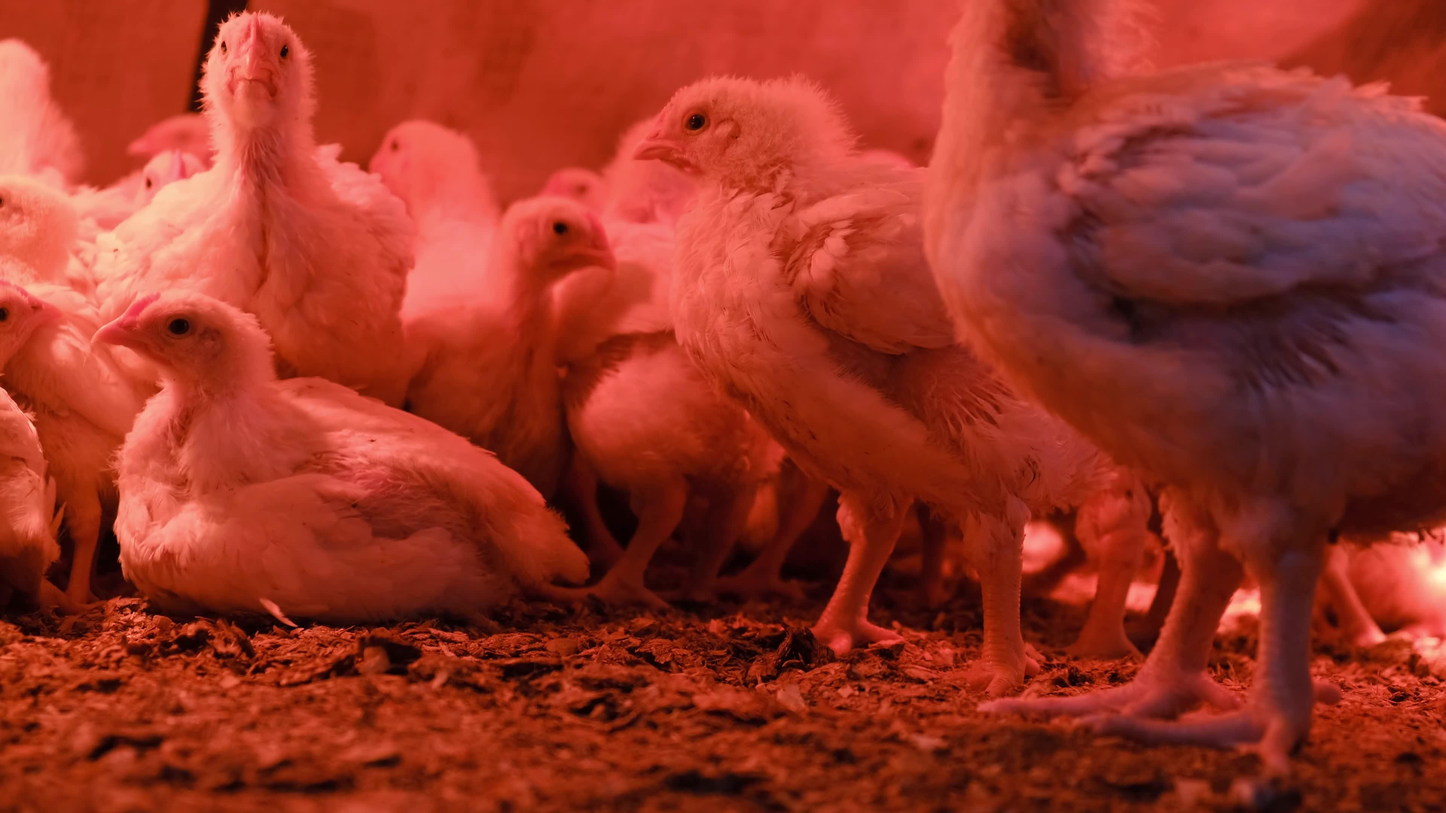AbNormal: (86, 272, 590, 610), (0, 271, 64, 628), (1317, 515, 1446, 650)
Normal: (921, 0, 1446, 771), (631, 78, 1132, 682), (85, 8, 420, 365), (0, 174, 171, 623), (570, 261, 771, 619), (393, 196, 616, 468), (360, 115, 519, 306), (0, 36, 87, 181), (140, 147, 207, 223)
